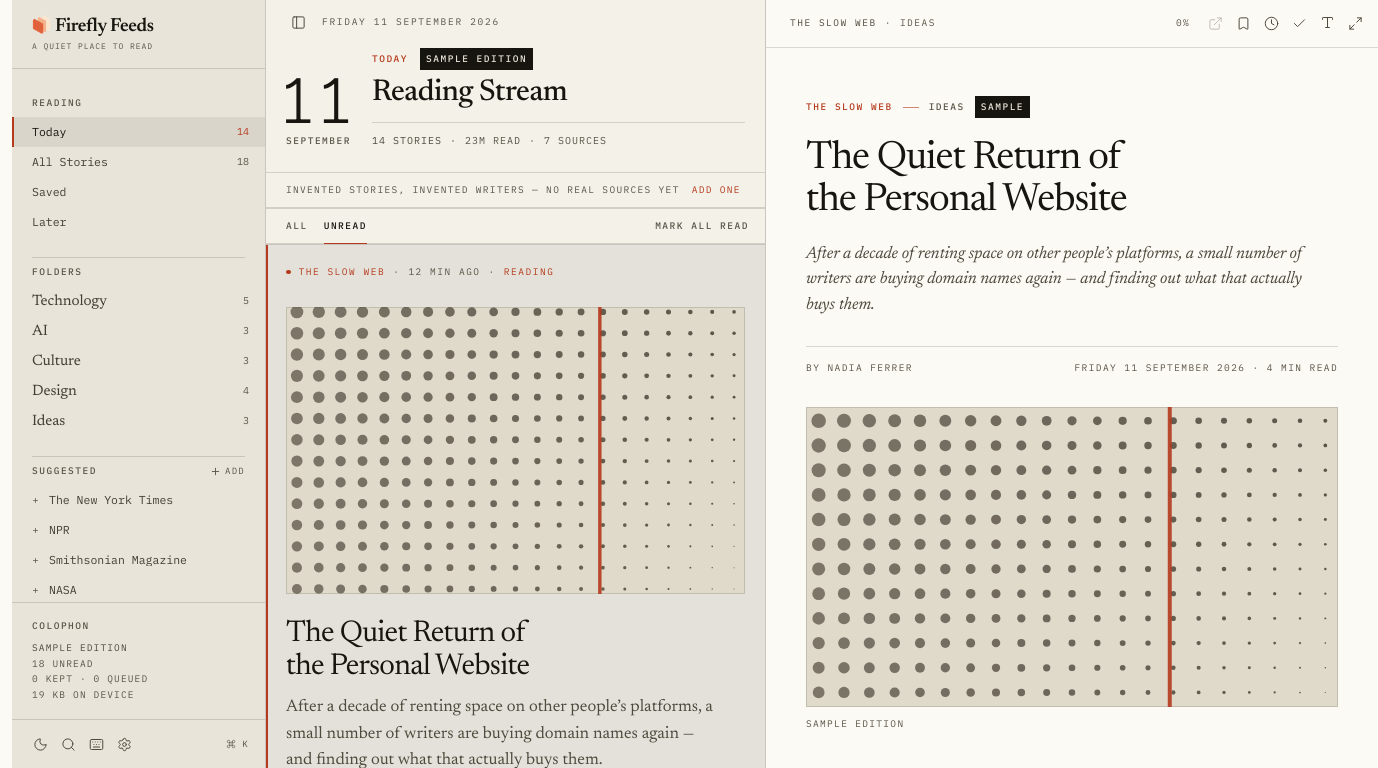
Test: columns › switches source and carries the reader with it
Expected: the heading "Reading Stream" is shown, [372,78,567,108]
Click the button "Ideas 3". click: click(138, 421)
box: [12,406,265,436]
(page scrolled)
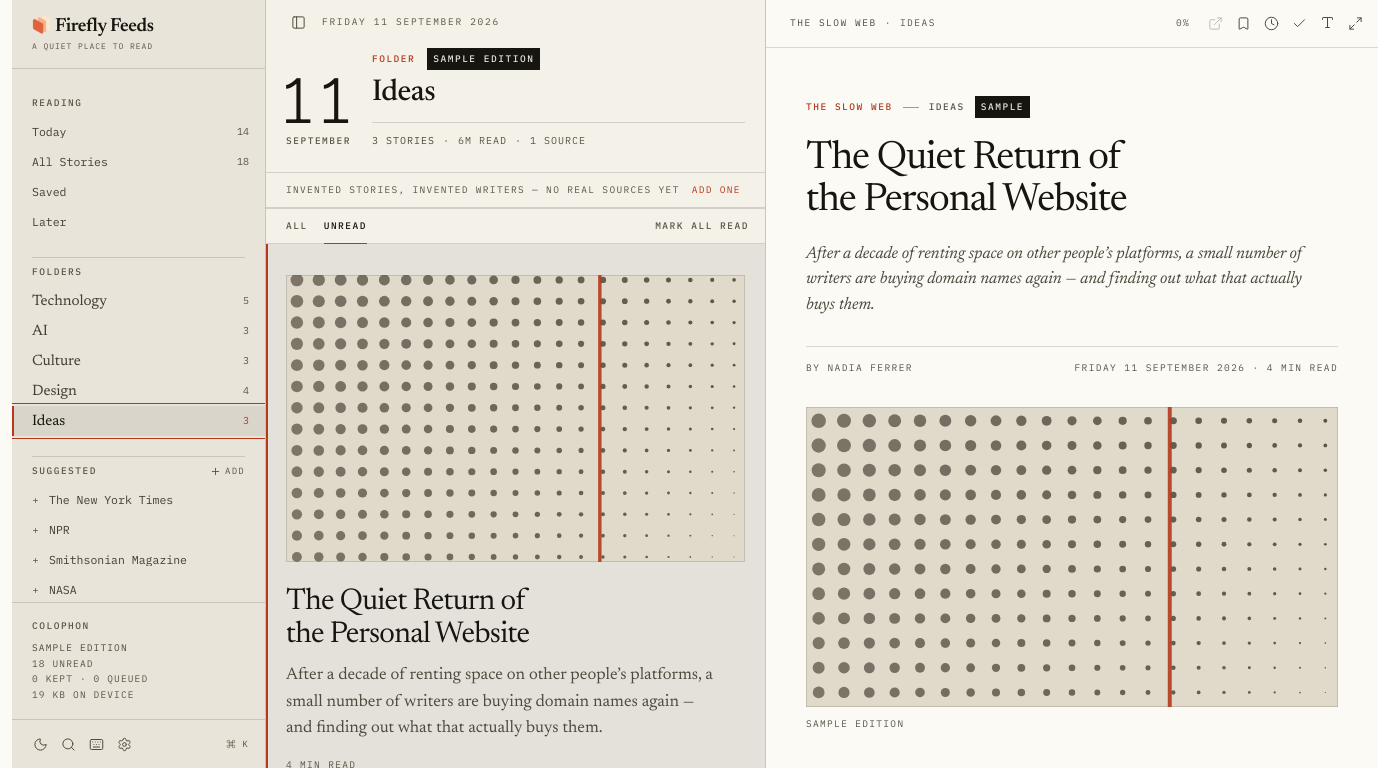
Expected: the button that starts with "The Slow Web" is shown, [266,244,765,767]
Expected: the heading "Reading Stream" reads "Ideas", [372,78,435,108]
